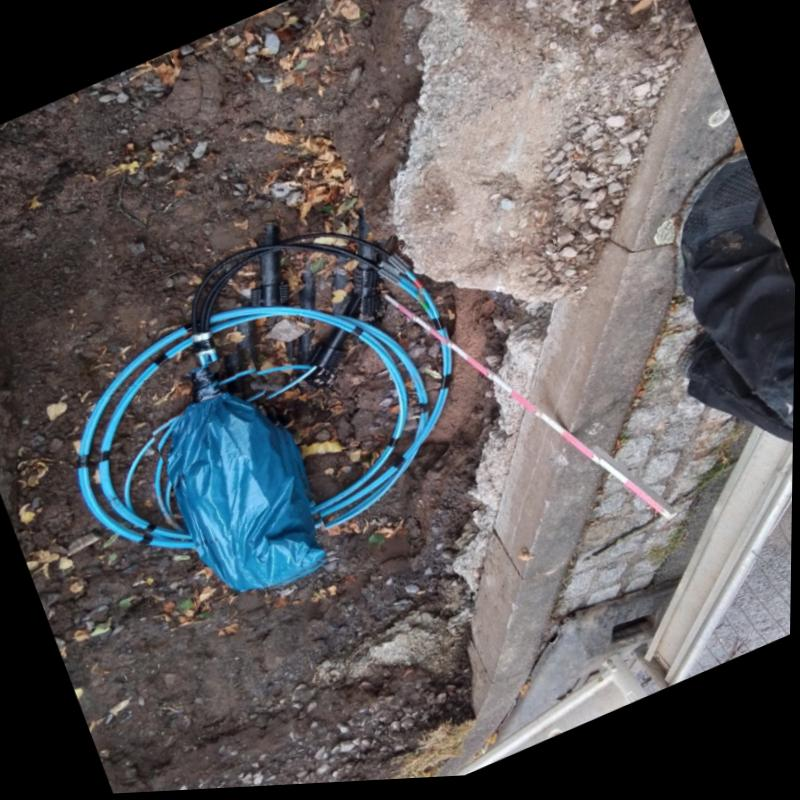NT-Muffen: (136, 341, 344, 619)
